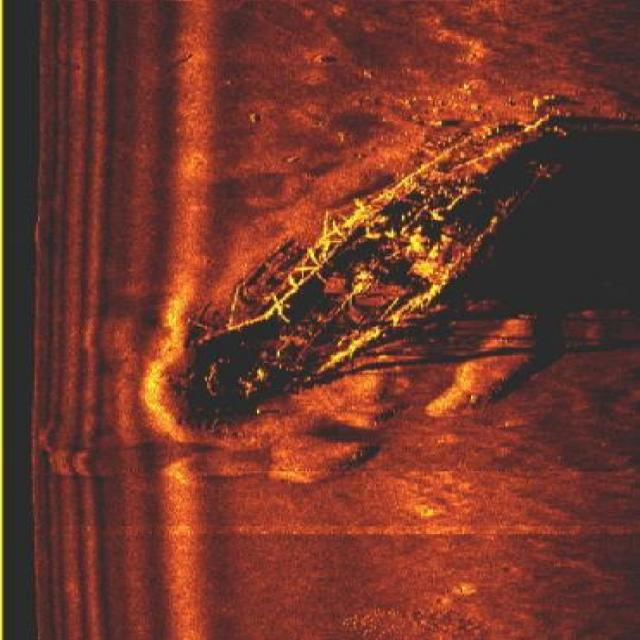ship: (195, 110, 580, 396)
